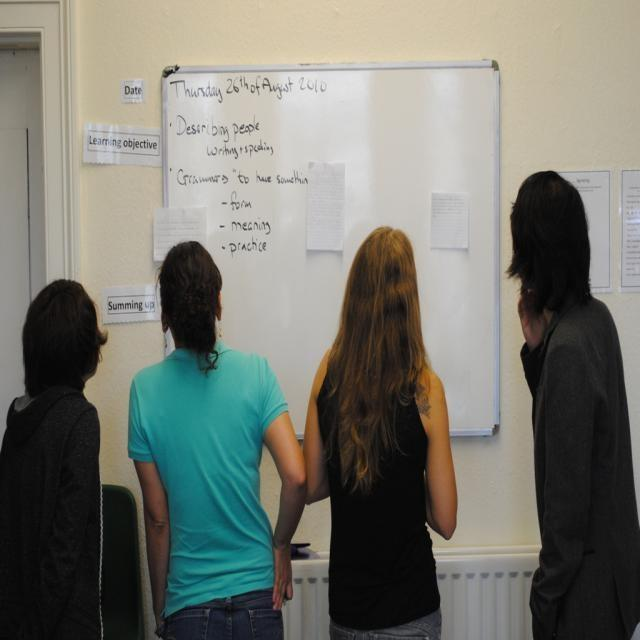Whiteboard: (161, 58, 501, 438)
